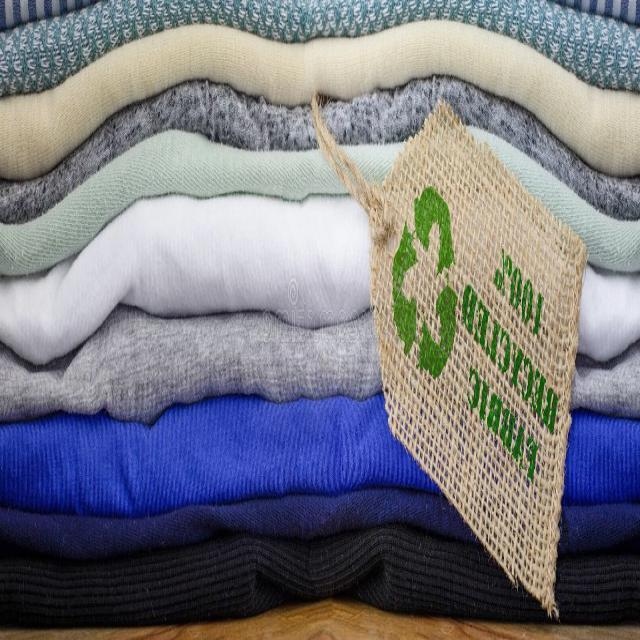clothes: (0, 2, 640, 640), (77, 64, 337, 592)
